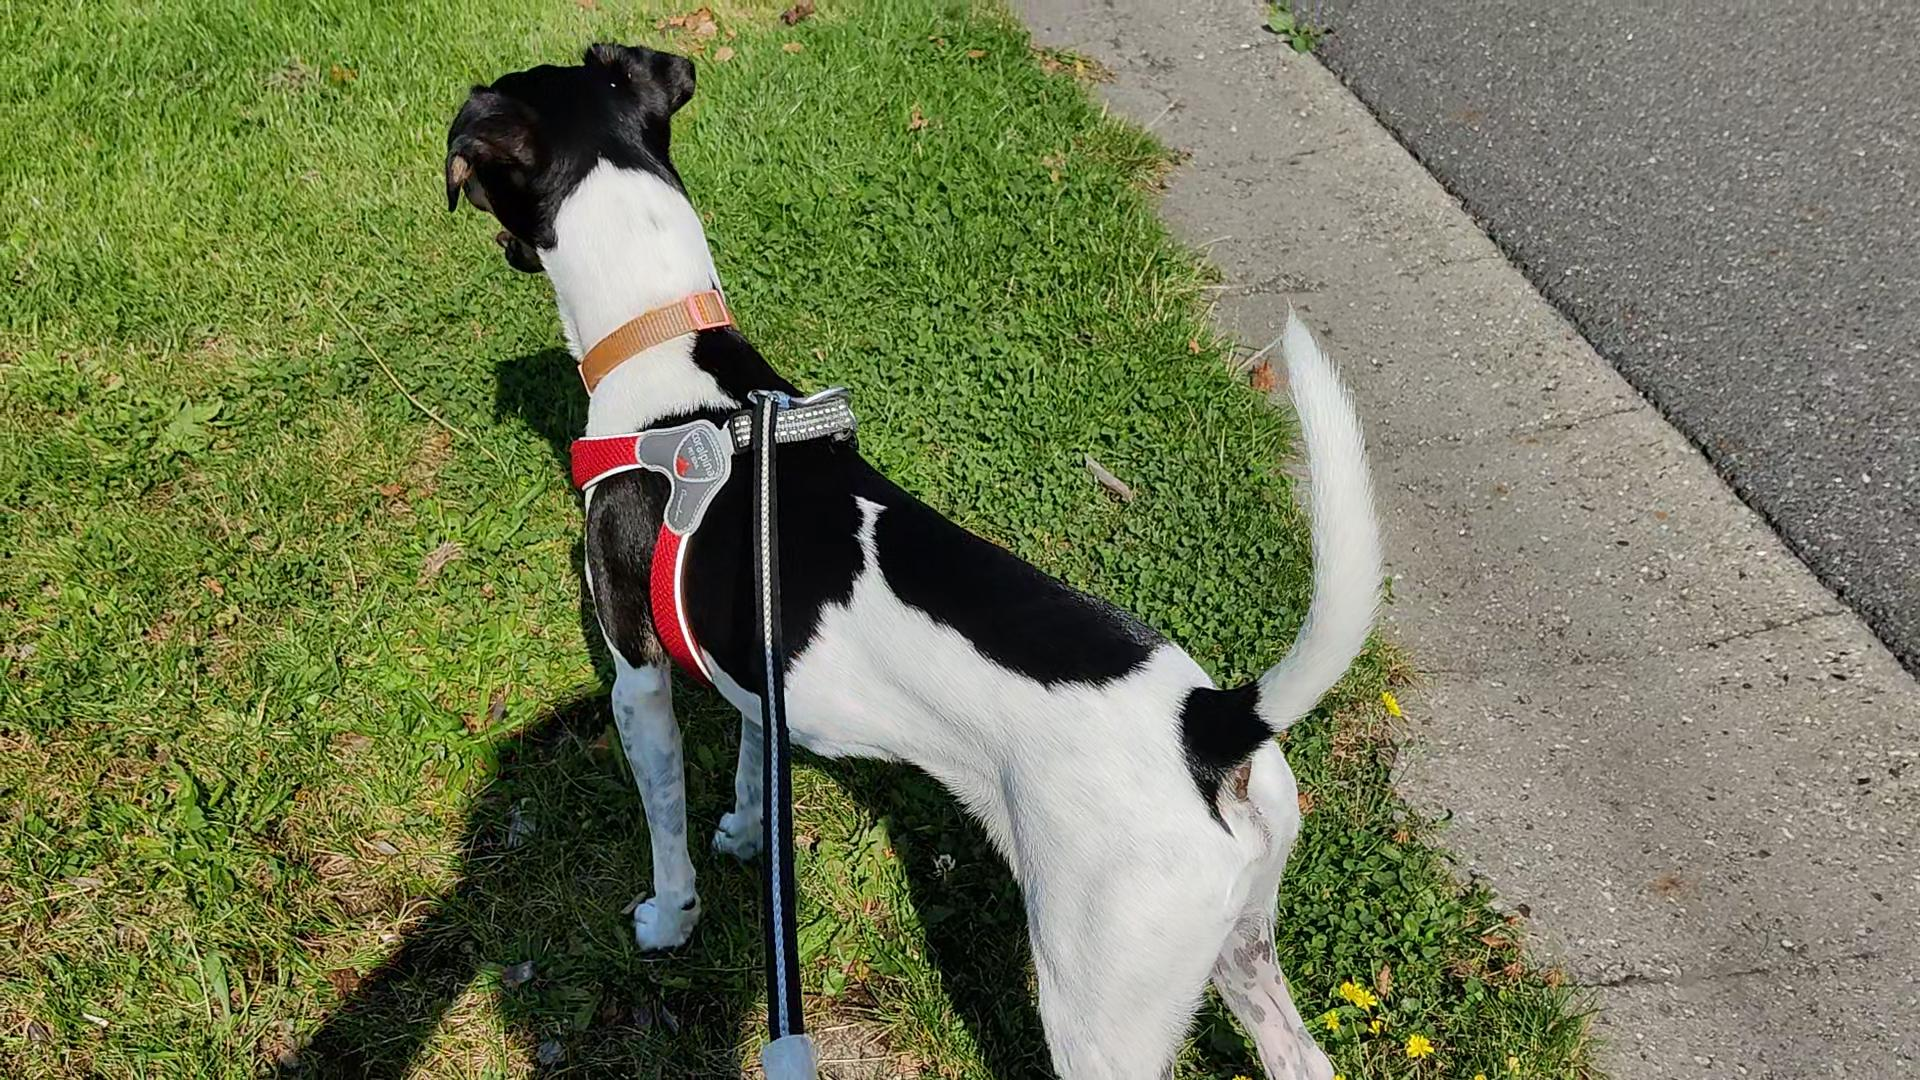Dog: (410, 36, 1406, 1079)
